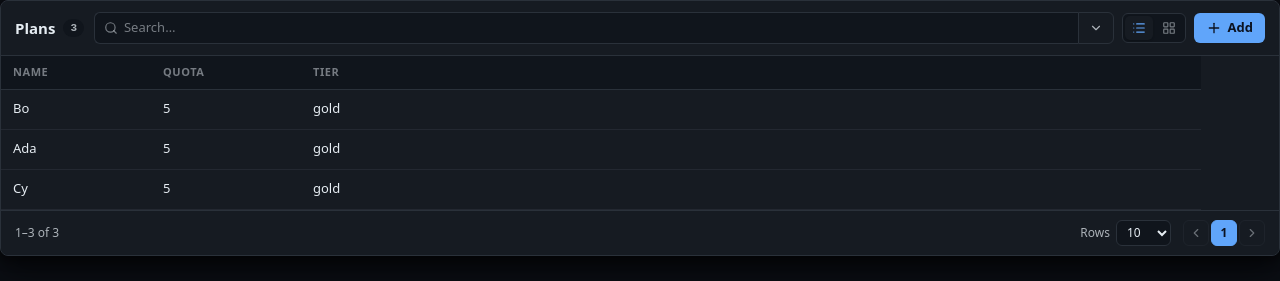
switching to cards after sorting › keeps the order the user chose
Expected: the text "Bo" is shown, [13, 99, 29, 117]
Click the button "Name" at x=72, y=72, box [13, 64, 131, 80]
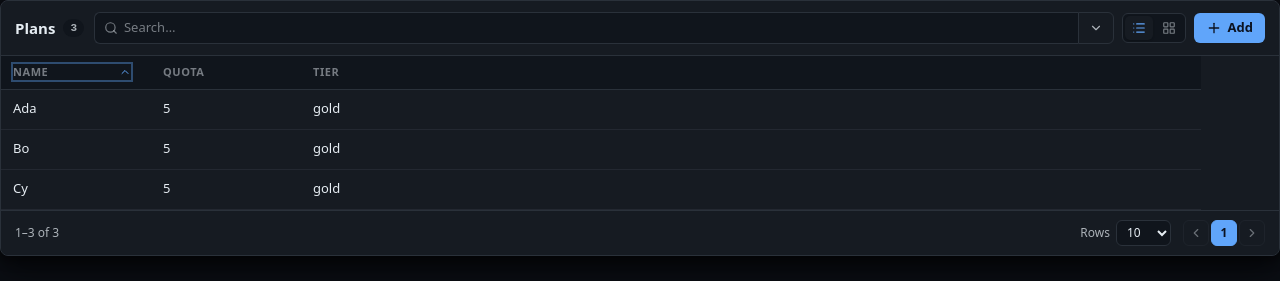
Expected: the cell "Ada" is shown, [1, 90, 151, 130]
Click the button named "Cards view" at x=1169, y=28, box [1155, 16, 1183, 40]
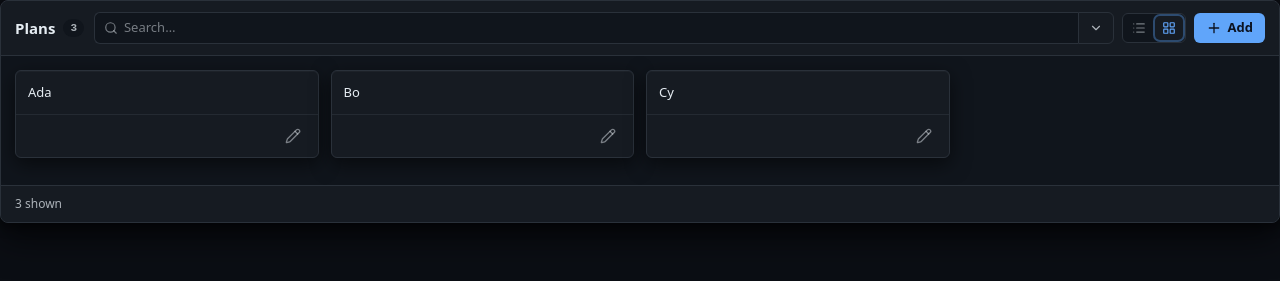
Expected: the number of elements with test id "card" is 3, [28, 82, 52, 100]; [344, 82, 360, 100]; [659, 82, 674, 100]
Expected: the elements with test id "card" read "Ada", "Bo", "Cy", in this order, [28, 82, 52, 100]; [344, 82, 360, 100]; [659, 82, 674, 100]
